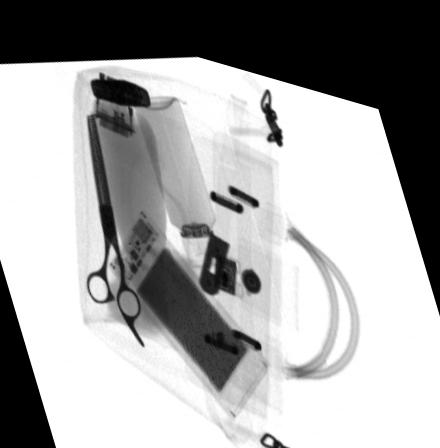Lighter: (90, 74, 147, 102)
Powerbank: (109, 200, 272, 406)
Scissors: (82, 109, 145, 339)
Sprayer: (134, 87, 219, 261)
